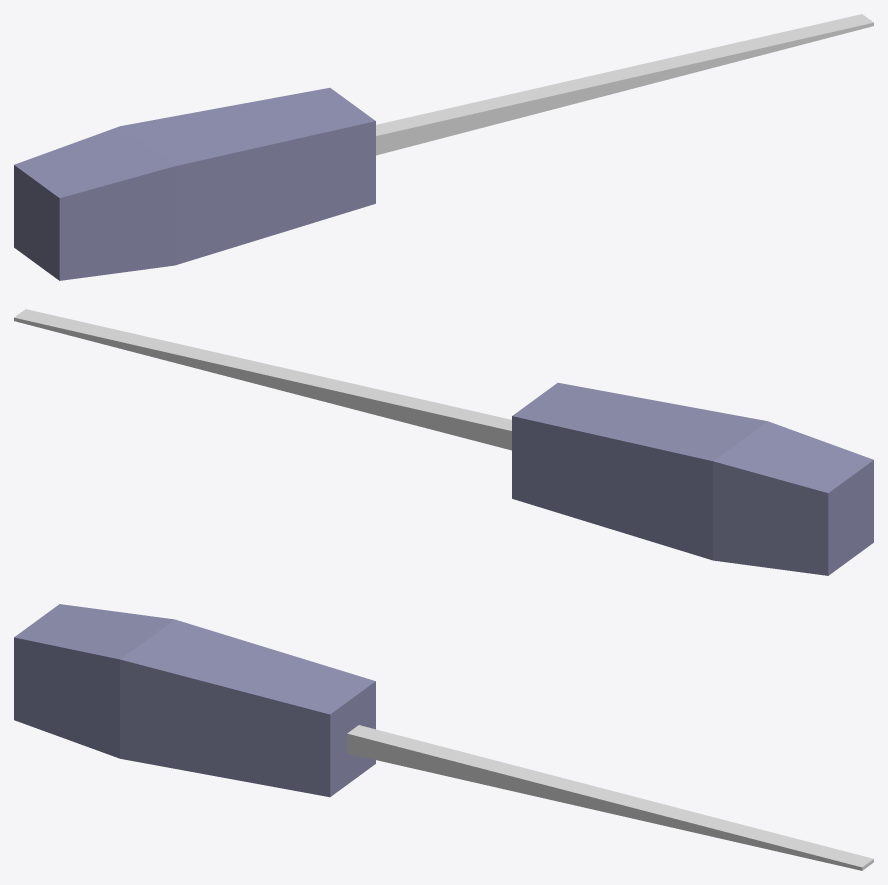
The model's file is Отвёртка.fbx.
The picture shows the model from 3 angles, top to bottom: view 1: azimuth 30°, elevation 25°; view 2: azimuth 150°, elevation 25°; view 3: azimuth 330°, elevation 25°; orthographic projection.
Visible parts, largest first — view 1: Куб; view 2: Куб; view 3: Куб.
Boxes of the visible parts, box(x1,y1,x2,y2) form: Куб: box(14, 14, 873, 280); Куб: box(14, 309, 873, 575); Куб: box(14, 604, 873, 870).
Bounding box in the file's own units: 294 × 33.6 × 33.6.
